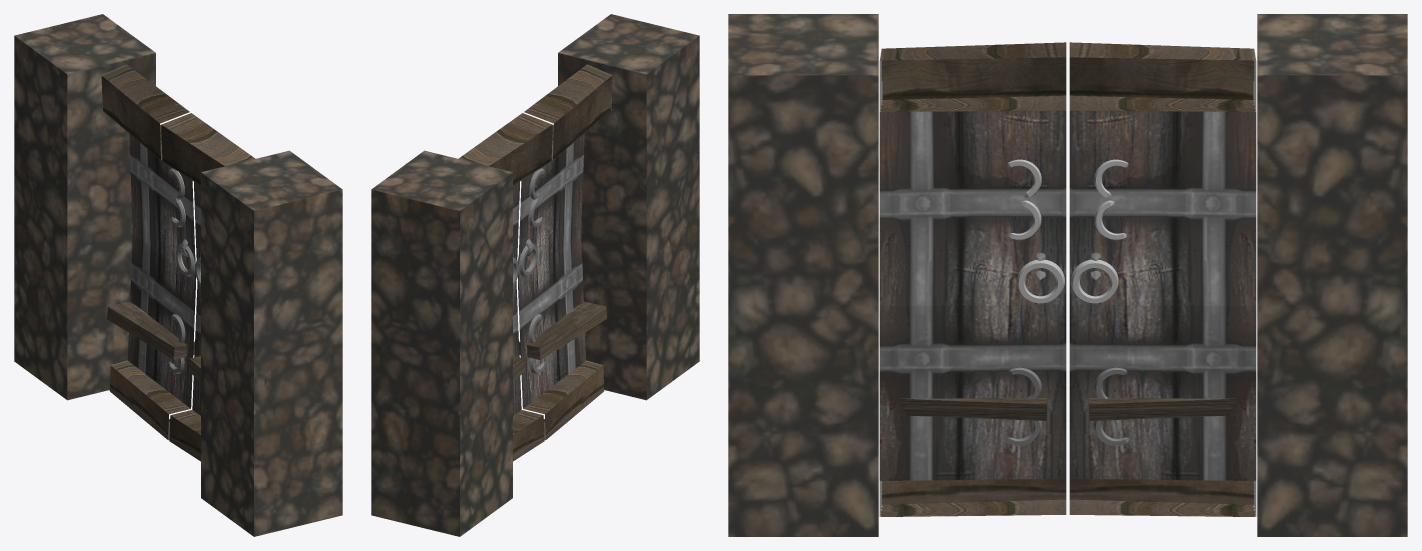
The model's file is door_1.fbx.
The picture shows the model from 3 angles, left to right: view 1: azimuth 30°, elevation 25°; view 2: azimuth 150°, elevation 25°; view 3: azimuth 270°, elevation 25°; orthographic projection. The views are drawn at different scales.
Visible parts, largest first — view 1: pCube24.002, pCube30, polySurface24, polySurface37, polySurface46; view 2: pCube30, pCube24.002, polySurface37, polySurface24, polySurface47; view 3: polySurface37, polySurface24, pCube30, pCube24.002, polySurface47, polySurface46, polySurface43, polySurface42.
Boxes of the visible parts, x1,y1,x2,y2 form: pCube24.002: [201, 150, 342, 536]; pCube30: [14, 14, 155, 400]; polySurface24: [101, 64, 195, 440]; polySurface37: [161, 113, 255, 461]; polySurface46: [107, 301, 194, 359]; pCube30: [371, 150, 512, 536]; pCube24.002: [558, 14, 699, 400]; polySurface37: [518, 64, 612, 440]; polySurface24: [458, 113, 552, 461]; polySurface47: [519, 301, 606, 359]; polySurface37: [879, 42, 1066, 516]; polySurface24: [1069, 42, 1256, 516]; pCube30: [1257, 14, 1407, 536]; pCube24.002: [728, 14, 878, 536]; polySurface47: [898, 398, 1046, 420]; polySurface46: [1089, 398, 1237, 420]; polySurface43: [1017, 259, 1064, 303]; polySurface42: [1071, 259, 1118, 303].
Size of the model in its own units: 7.4 by 26.01 by 34.66.
Materials: 1 (1 with a texture image).
